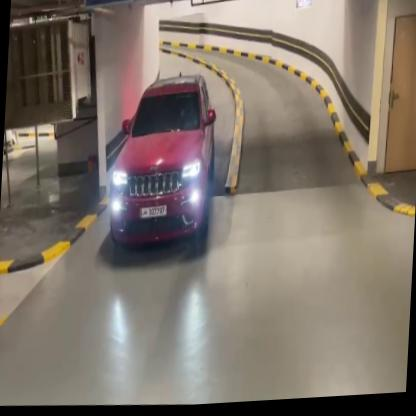np: (139, 203, 170, 223)
